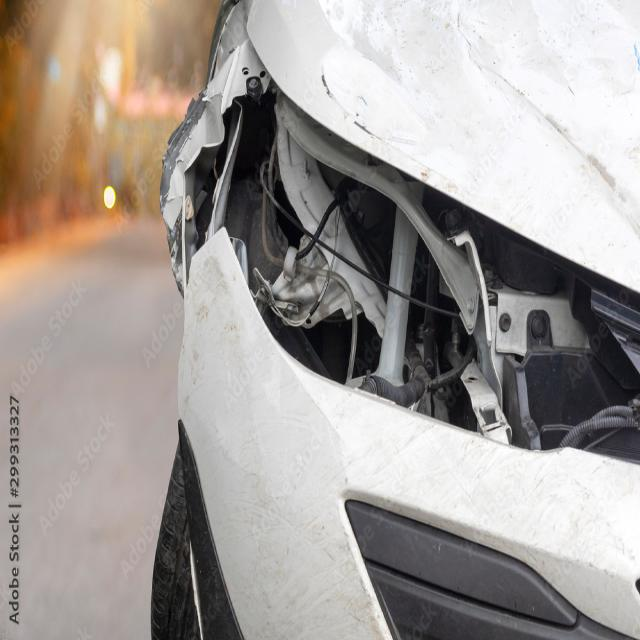Head Light: (207, 44, 635, 496)
